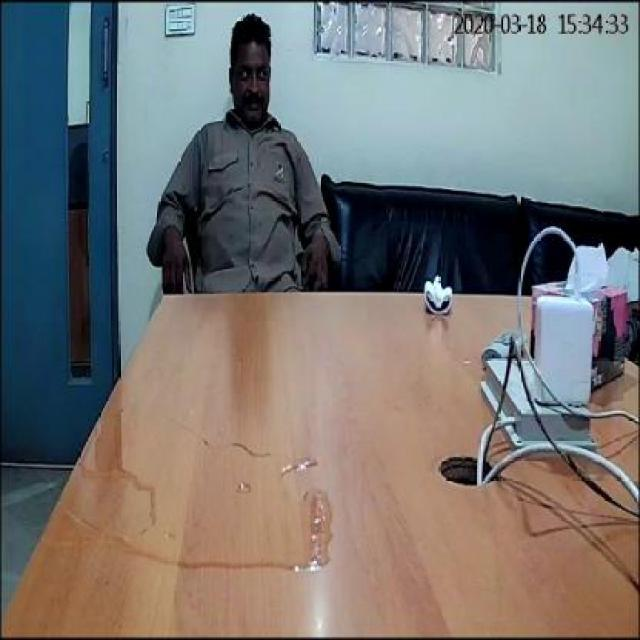spill: (76, 379, 332, 573)
